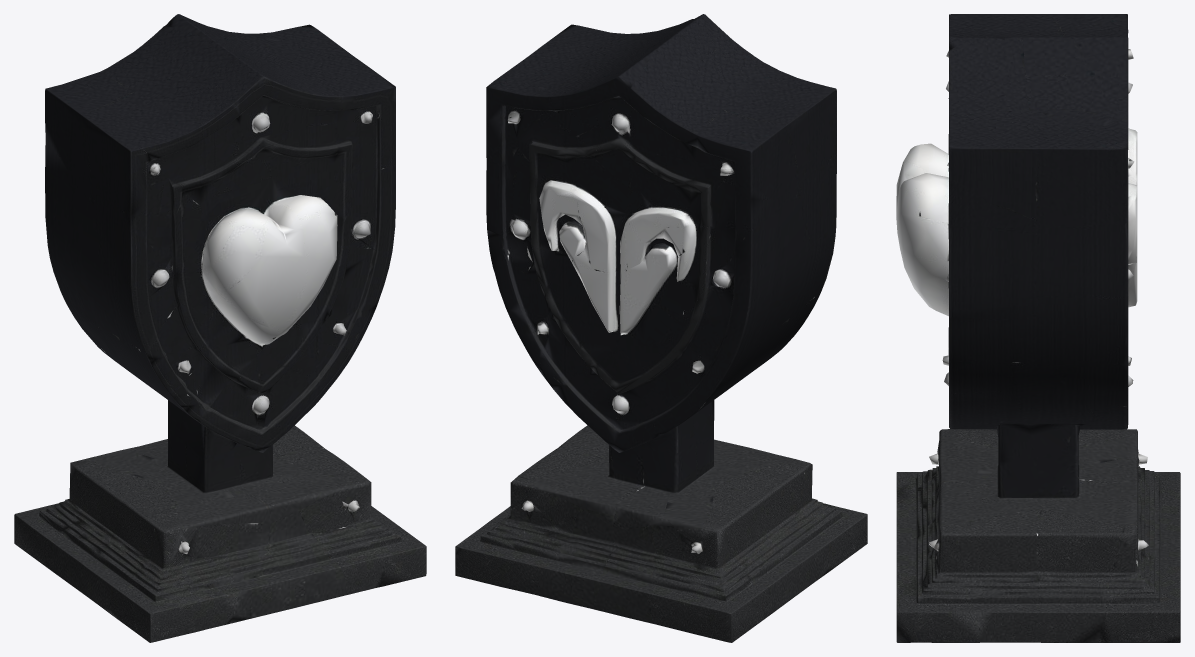
Rendered from co_shield.glb.
3 renders of one model, left to right at view 1: azimuth 30°, elevation 25°; view 2: azimuth 150°, elevation 25°; view 3: azimuth 270°, elevation 25°, orthographic. The views are drawn at different scales.
Size of the model in its own units: 1.07 by 1.9 by 0.9135.
1 material, 1 textured.
